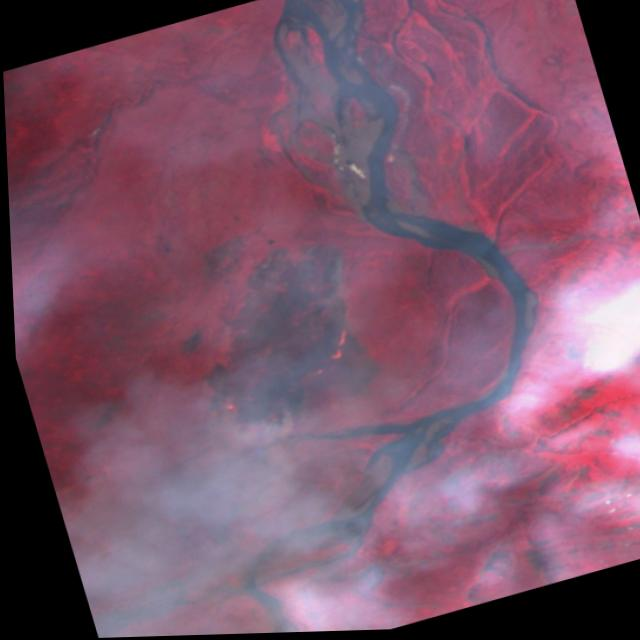fire: (158, 228, 389, 452)
